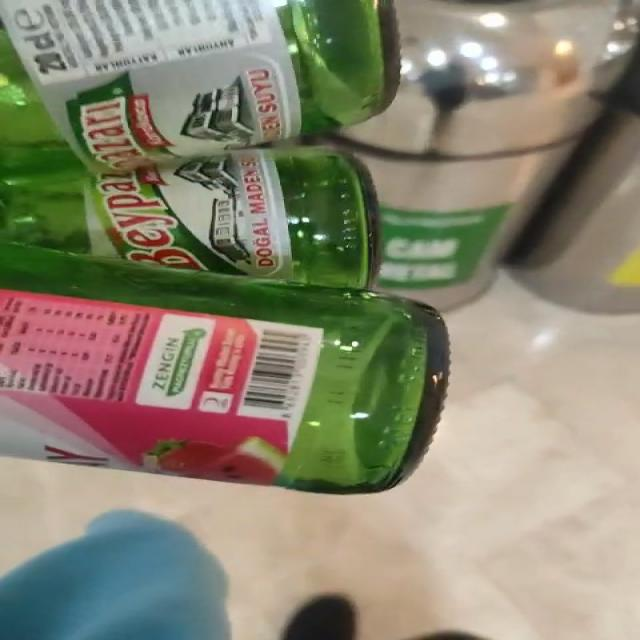glass: (0, 0, 449, 495)
